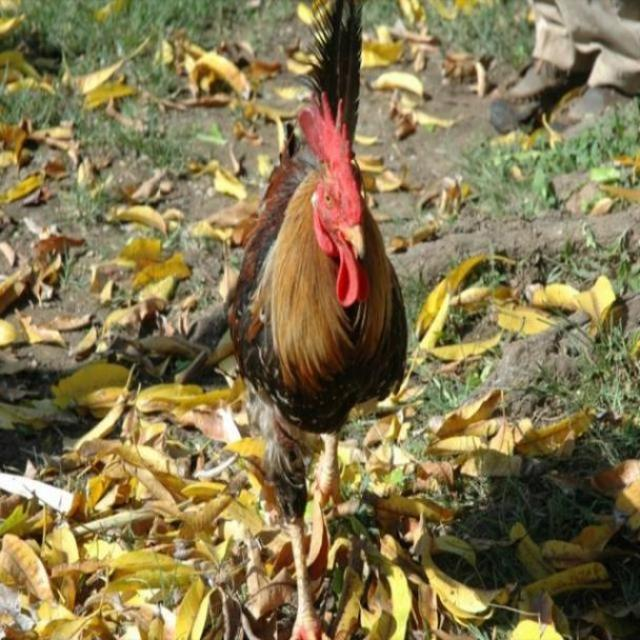Chicken: (177, 46, 493, 583)
